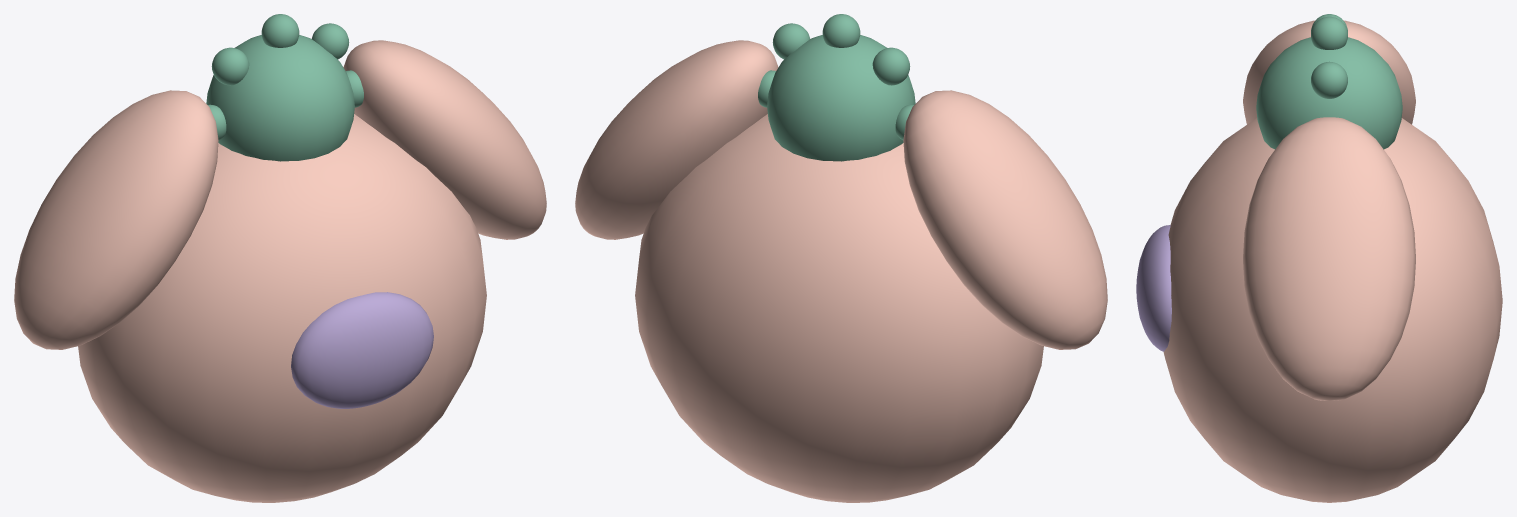
The model's file is phagocyte.glb.
The picture shows the model from 3 angles, left to right: view 1: azimuth 30°, elevation 25°; view 2: azimuth 150°, elevation 25°; view 3: azimuth 270°, elevation 25°; orthographic projection.
Parts seen in each view (by area): view 1: Phagocyte body, Engulfing arm (×2), Microbe, Nucleus, Microbe surface projection (×3); view 2: Phagocyte body, Engulfing arm (×2), Microbe, Microbe surface projection (×3); view 3: Phagocyte body, Engulfing arm (×2), Microbe, Nucleus, Microbe surface projection (×2).
Boxes of the visible parts, x1=… form: Phagocyte body: x1=78, y1=114, x2=486, y2=502; Engulfing arm (×2): x1=14, y1=40, x2=546, y2=349; Microbe: x1=206, y1=35, x2=354, y2=161; Nucleus: x1=291, y1=292, x2=433, y2=408; Microbe surface projection (×3): x1=211, y1=14, x2=349, y2=85; Phagocyte body: x1=635, y1=114, x2=1043, y2=502; Engulfing arm (×2): x1=575, y1=40, x2=1107, y2=349; Microbe: x1=767, y1=35, x2=915, y2=161; Microbe surface projection (×3): x1=772, y1=14, x2=910, y2=85; Phagocyte body: x1=1163, y1=118, x2=1502, y2=502; Engulfing arm (×2): x1=1243, y1=20, x2=1415, y2=400; Microbe: x1=1256, y1=37, x2=1402, y2=149; Nucleus: x1=1136, y1=225, x2=1171, y2=351; Microbe surface projection (×2): x1=1311, y1=16, x2=1347, y2=98.
Bounding box in the file's own units: 0.4373 × 0.384 × 0.275.
